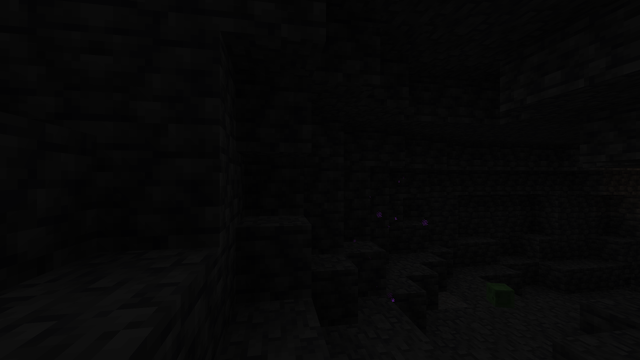slimes: (485, 281, 515, 307)
